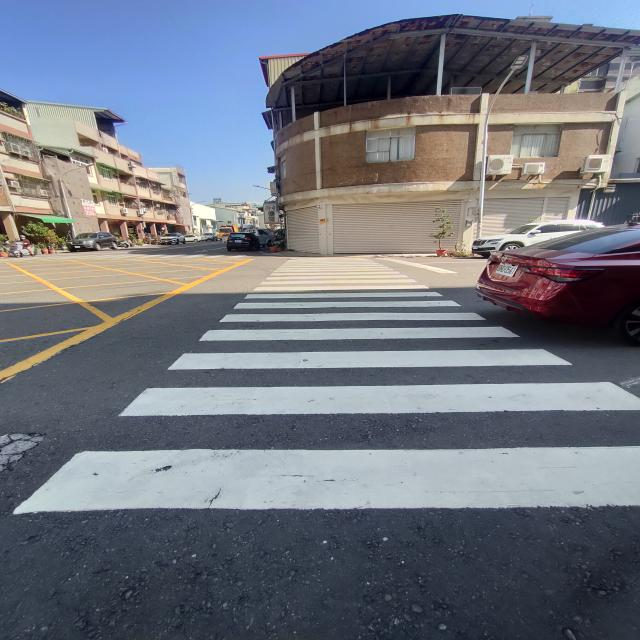zebra crossing: (6, 258, 640, 515)
